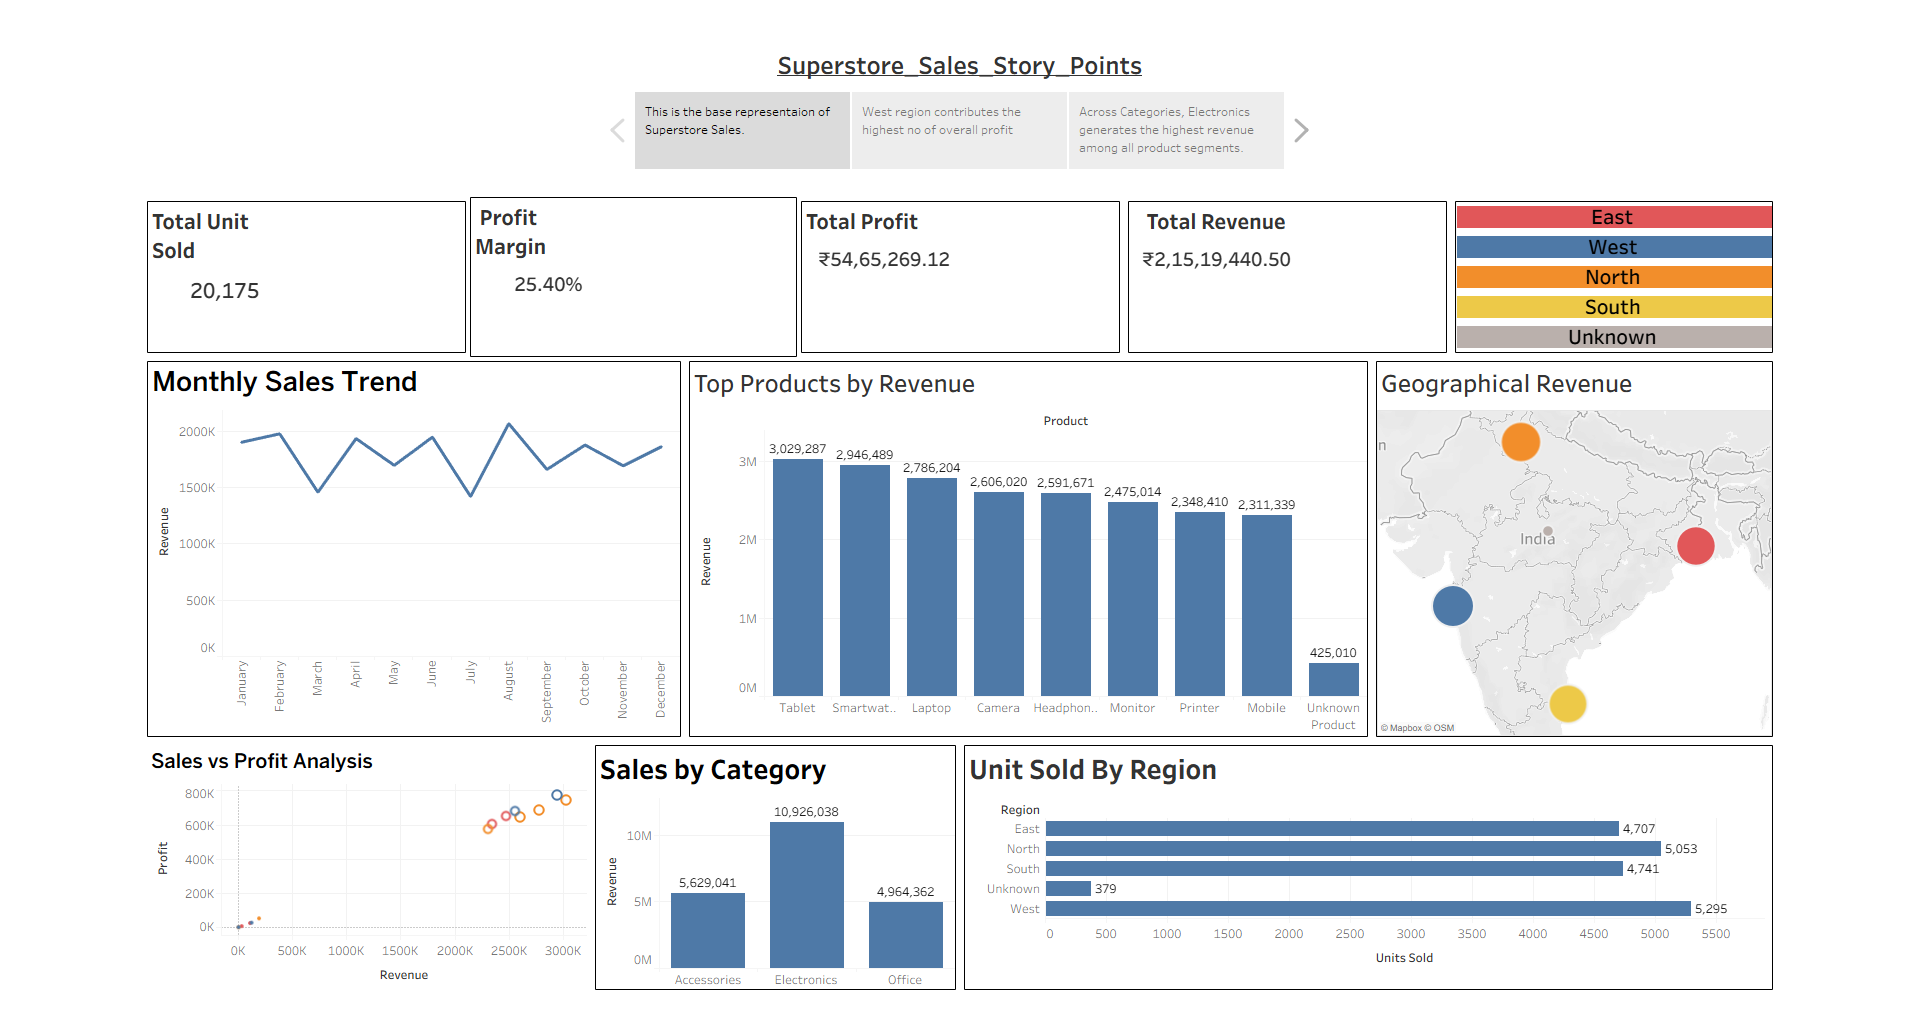

Layout of this report page (visuals, bound fields, positions):
{"tool":"tableau","page":{"name":"Dashboard 1","canvas":[1000,1000],"units":"permille","ordinal":0},"visuals":[{"type":"worksheet","title":"KPI 4","mark":"Automatic","box":[4.9,9.3,198.2,186.1]},{"type":"worksheet","title":"KPI 3","mark":"Automatic","box":[203,9.3,198.2,186.1]},{"type":"worksheet","title":"KPI 2","mark":"Automatic","box":[401.2,9.3,198.2,186.1]},{"type":"worksheet","title":"KPI 1","mark":"Automatic","box":[599.4,9.3,198.2,186.1]},{"type":"worksheet","title":"Region Filter","mark":"Automatic","rows":["Region"],"cols":["Calculation_1579770297634817"],"box":[797.6,9.3,197.6,186.1]},{"type":"worksheet","title":"Sales trend","mark":"Automatic","rows":["Revenue"],"cols":["Date"],"box":[4.9,195.3,328.4,479.1]},{"type":"worksheet","title":"Top products revenue","mark":"Automatic","rows":["Revenue"],"cols":["Product"],"box":[333.3,195.3,416.4,479.1]},{"type":"worksheet","title":"Map","mark":"Automatic","rows":["Latitude"],"cols":["Longitude"],"box":[749.7,195.3,245.5,479.1]},{"type":"worksheet","title":"Sales vs profit","mark":"Automatic","rows":["Profit"],"cols":["Revenue"],"box":[4.9,674.5,271.4,316.2]},{"type":"worksheet","title":"Sales category","mark":"Automatic","rows":["Revenue"],"cols":["Category"],"box":[276.3,674.5,223.7,316.2]},{"type":"worksheet","title":"unit sold","mark":"Automatic","rows":["Region"],"cols":["Units_Sold"],"box":[500,674.5,495.2,316.2]}]}

Visuals, with their boxes on the dashboard's canvas, which has no fixed pixel size, in thousandths of its width and height (x1, y1, x2, y2). These are canvas units, not pixel positions in the 1920x1035 screenshot, which may show the page scaled, cropped or inside an application window:
"KPI 4" worksheet: {"x1": 5, "y1": 9, "x2": 203, "y2": 195}
"KPI 3" worksheet: {"x1": 203, "y1": 9, "x2": 401, "y2": 195}
"KPI 2" worksheet: {"x1": 401, "y1": 9, "x2": 599, "y2": 195}
"KPI 1" worksheet: {"x1": 599, "y1": 9, "x2": 798, "y2": 195}
"Region Filter" worksheet: {"x1": 798, "y1": 9, "x2": 995, "y2": 195}
"Sales trend" worksheet: {"x1": 5, "y1": 195, "x2": 333, "y2": 674}
"Top products revenue" worksheet: {"x1": 333, "y1": 195, "x2": 750, "y2": 674}
"Map" worksheet: {"x1": 750, "y1": 195, "x2": 995, "y2": 674}
"Sales vs profit" worksheet: {"x1": 5, "y1": 674, "x2": 276, "y2": 991}
"Sales category" worksheet: {"x1": 276, "y1": 674, "x2": 500, "y2": 991}
"unit sold" worksheet: {"x1": 500, "y1": 674, "x2": 995, "y2": 991}
